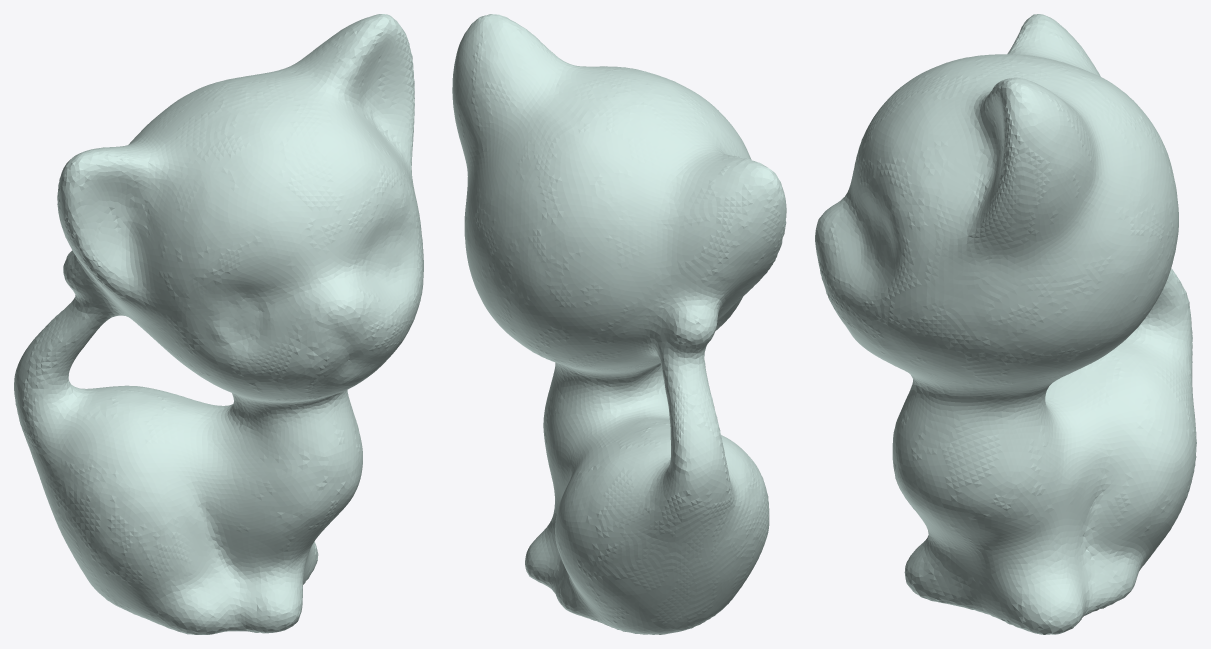
Rendered from kitten.obj.
3 renders of one model, left to right at view 1: azimuth 30°, elevation 25°; view 2: azimuth 150°, elevation 25°; view 3: azimuth 270°, elevation 25°, orthographic. The views are drawn at different scales.
Bounding box in the file's own units: 59.49 × 91.38 × 53.78.
